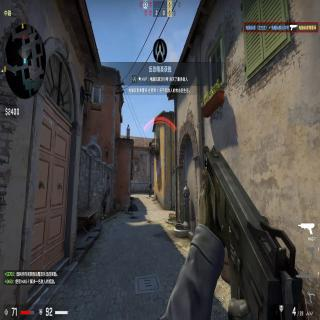T-Body: (148, 182, 152, 197)
